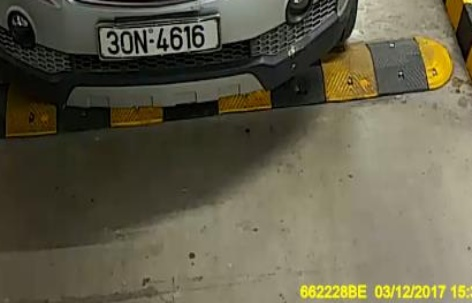plate: (90, 17, 229, 60)
